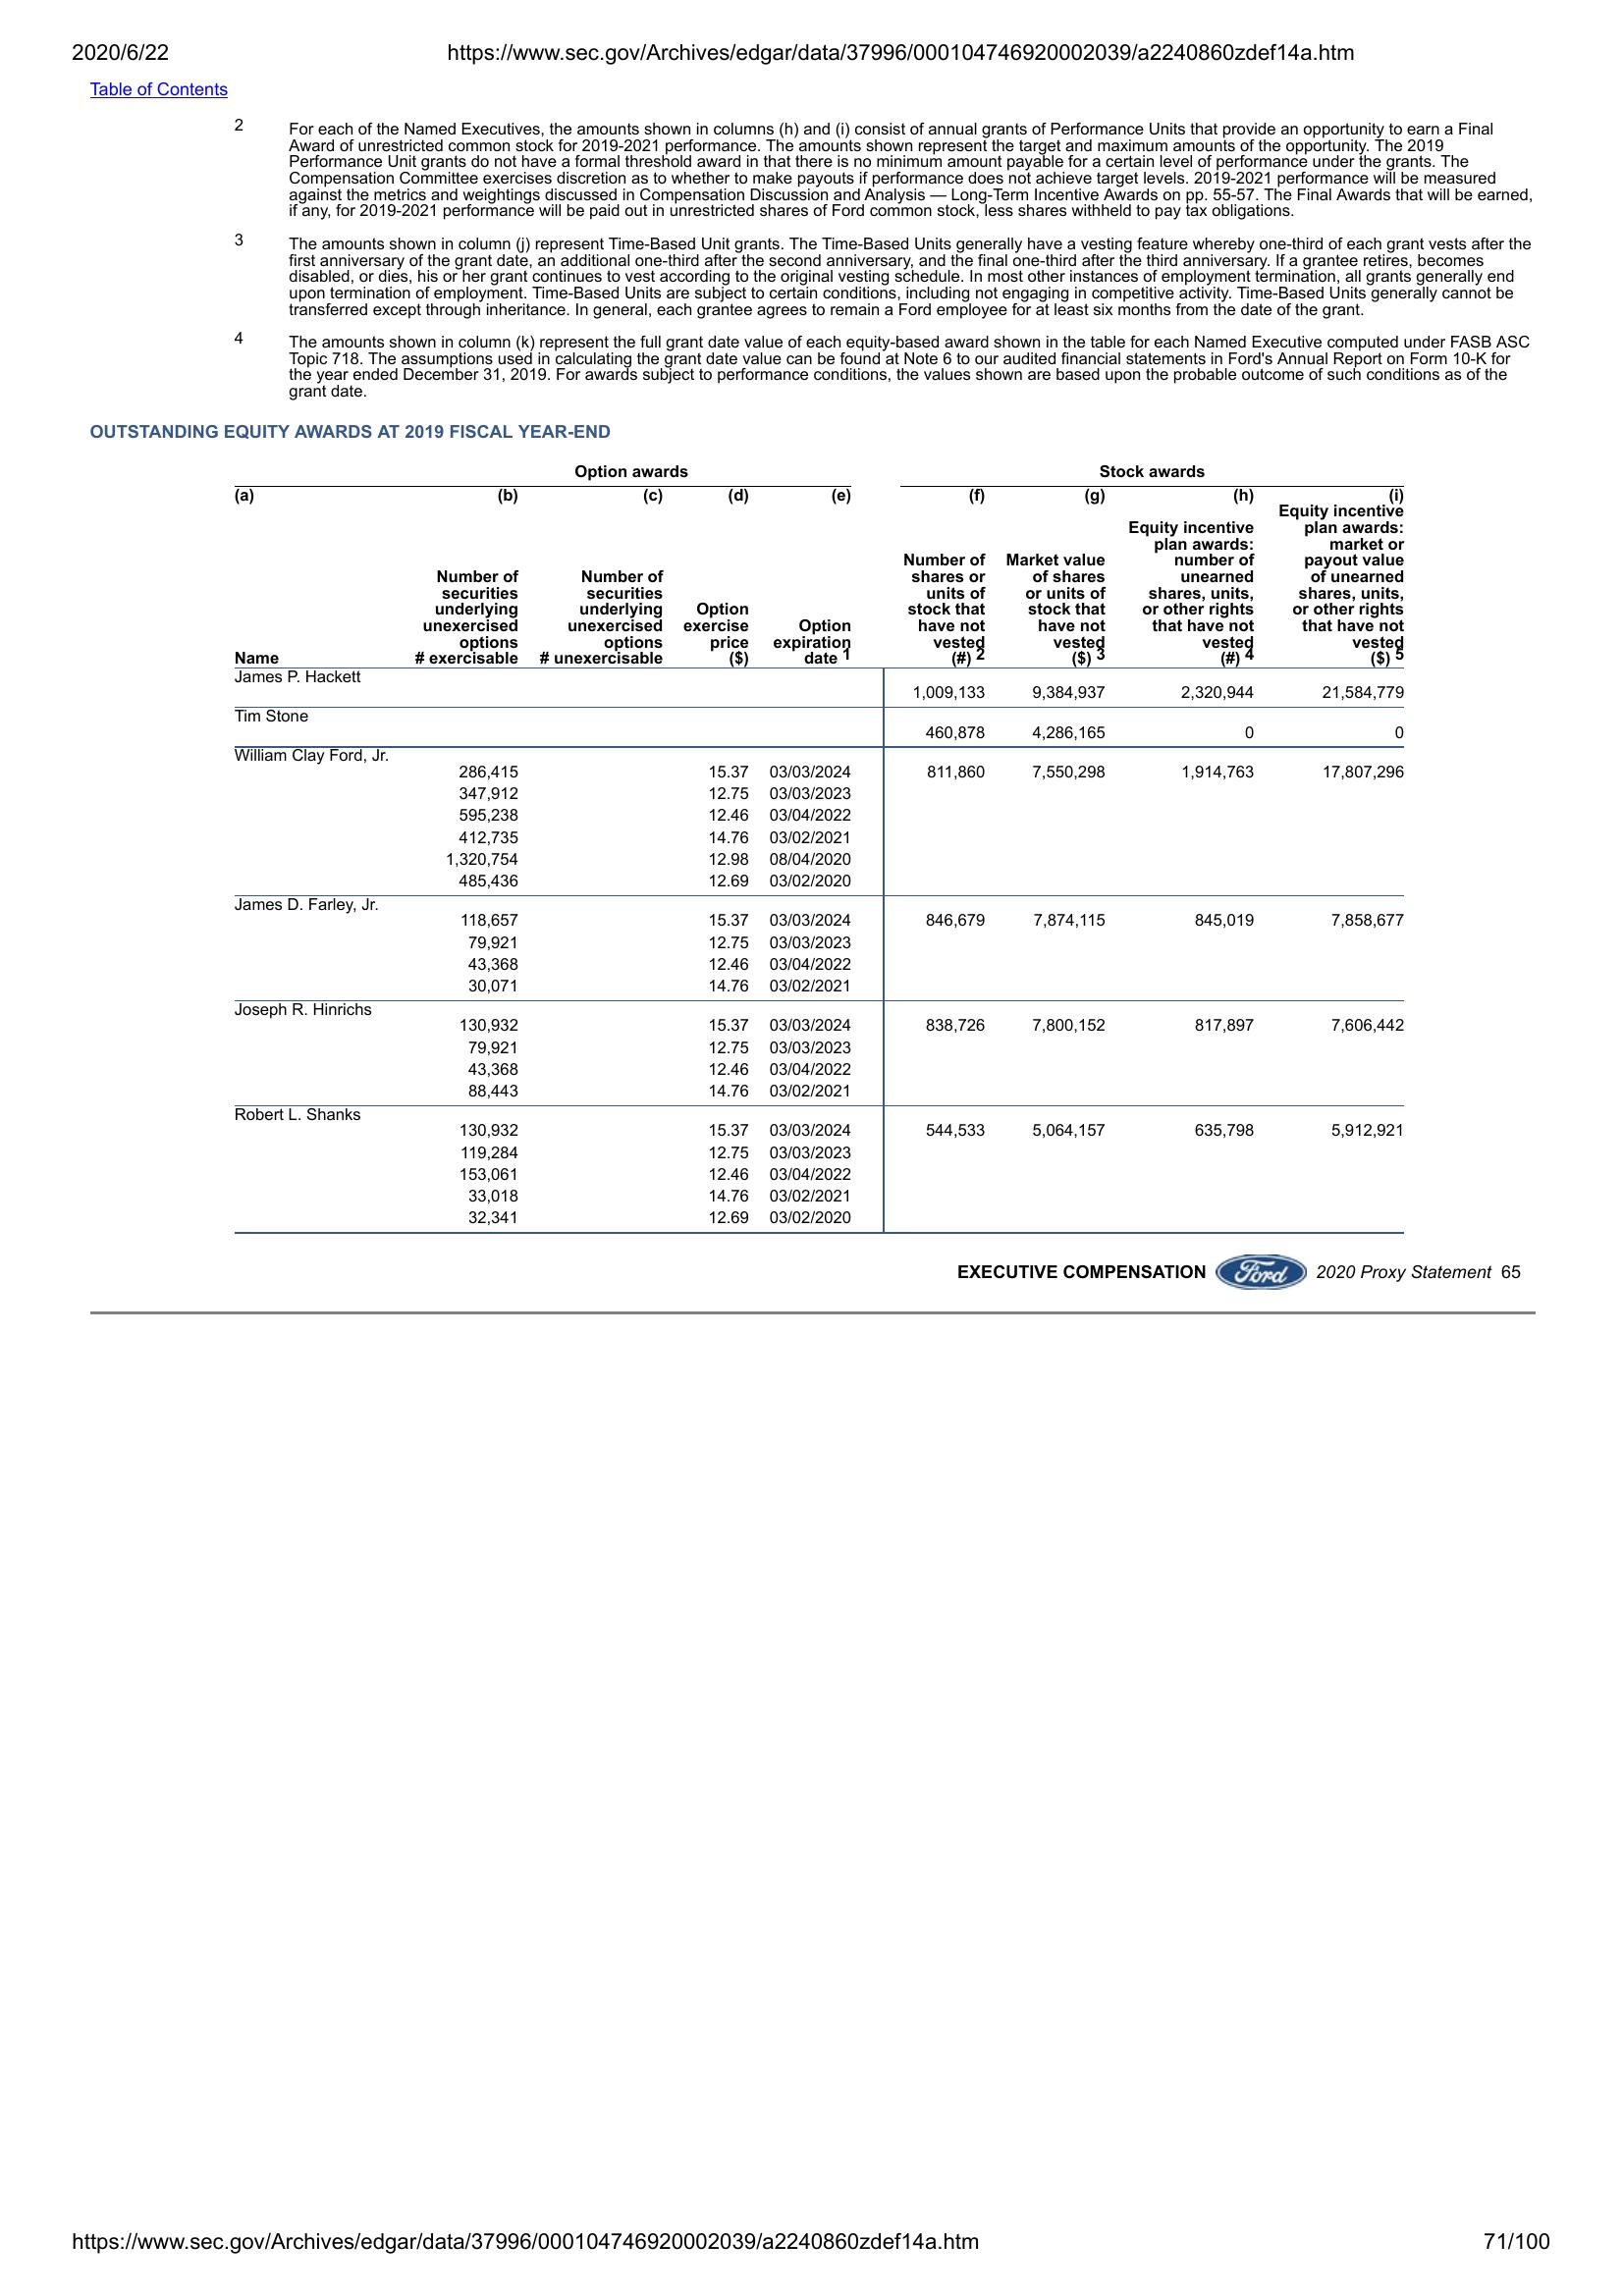table: (228, 458, 1416, 1241)
